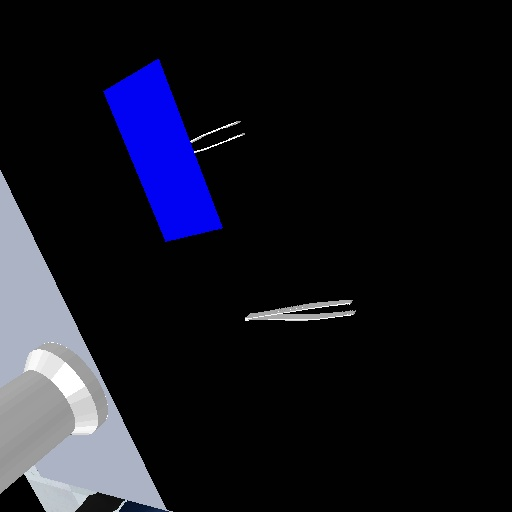pinza: (243, 294, 360, 324), (187, 117, 250, 157)
